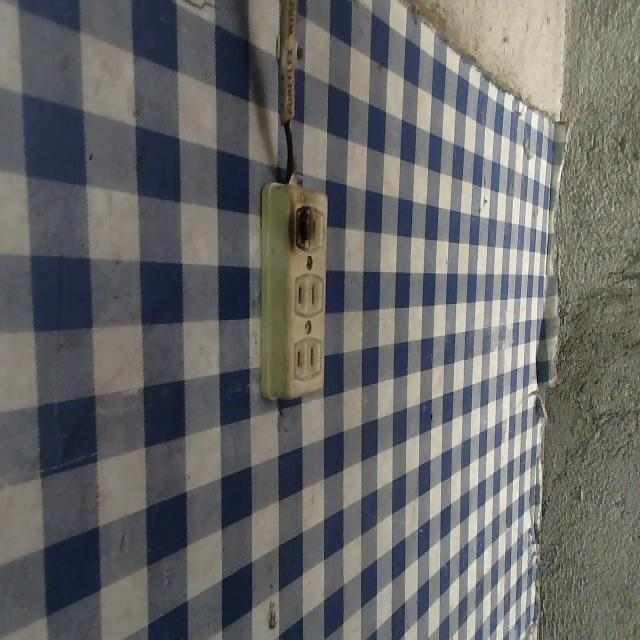-: (286, 199, 313, 252)
